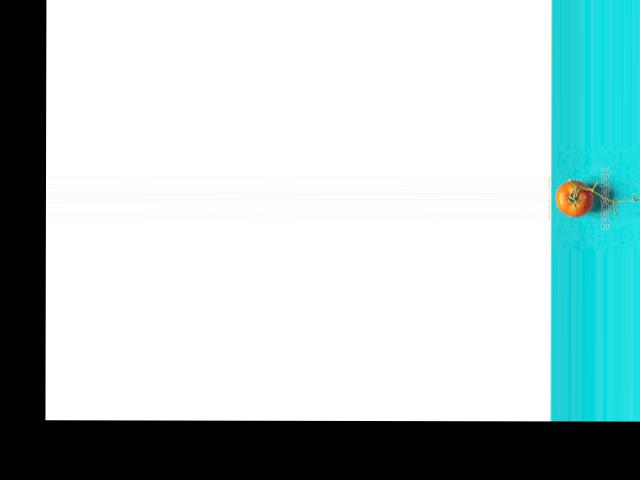tomato: (556, 179, 592, 217)
